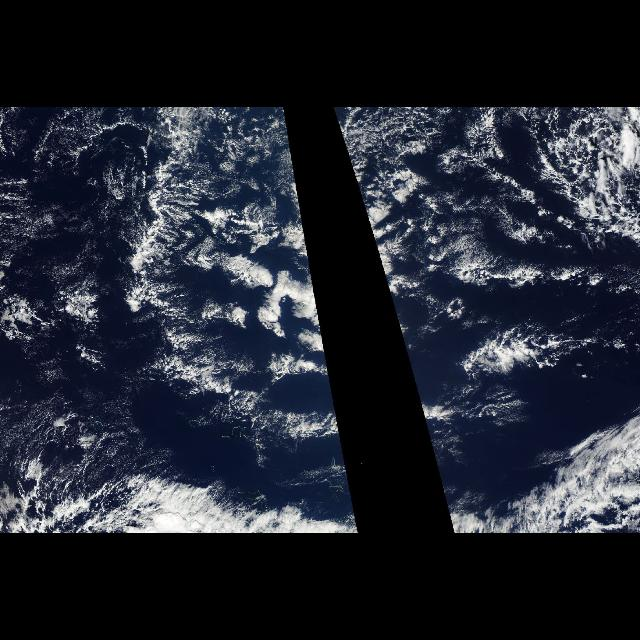Sugar: (4, 111, 162, 343), (0, 362, 134, 502)
